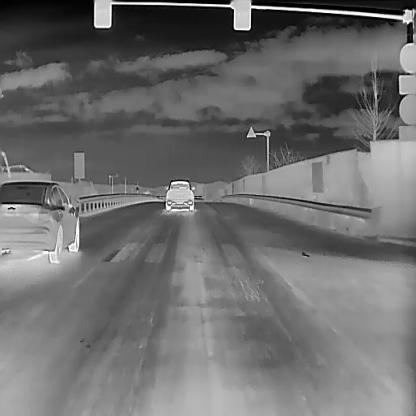car: (0, 178, 79, 263), (163, 177, 195, 210)
